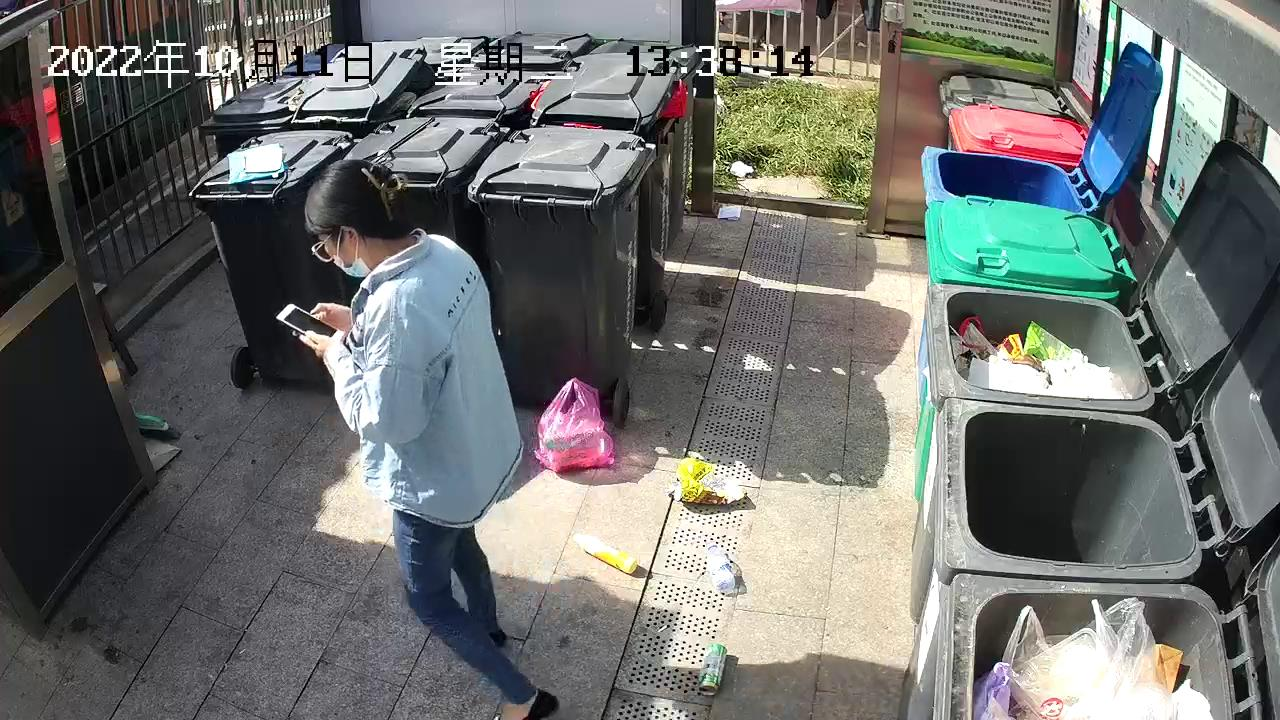garbage: (667, 452, 750, 509)
garbage-bag: (527, 371, 620, 478)
lvzhipin: (694, 640, 730, 697)
suliaozhipin: (566, 529, 642, 577), (704, 538, 741, 597)
worker: (267, 153, 564, 720)
